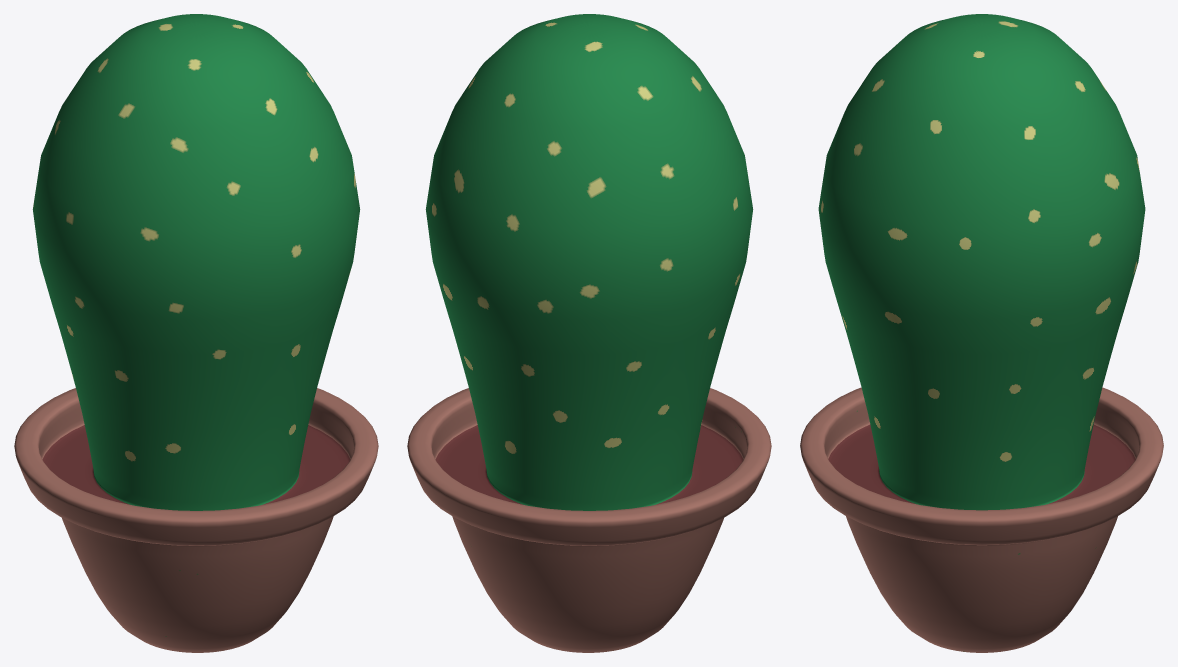
File: saboten.fbx
3 views of the same model, side by side, from view 1: azimuth 30°, elevation 25°; view 2: azimuth 150°, elevation 25°; view 3: azimuth 270°, elevation 25° (orthographic).
Visible parts, largest first — view 1: saboten; view 2: saboten; view 3: saboten.
Boxes of the visible parts, x1,y1,x2,y2 form: saboten: [14, 14, 378, 652]; saboten: [407, 14, 771, 652]; saboten: [800, 14, 1163, 652].
Size of the model in its own units: 7.05 by 7.05 by 12.8.
1 material, 1 textured.
